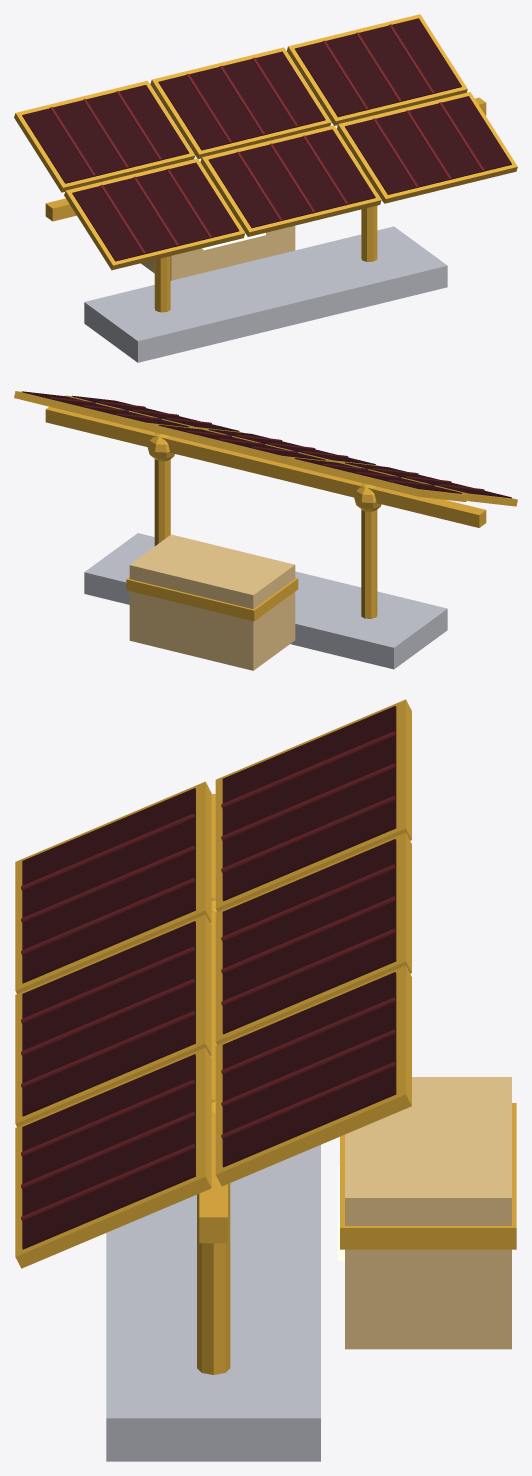
File: painel-solar-n3.glb
3 views of the same model, one above another, from view 1: azimuth 30°, elevation 25°; view 2: azimuth 150°, elevation 25°; view 3: azimuth 270°, elevation 25° (orthographic). The views are drawn at different scales.
Parts seen in each view (by area): view 1: painel-solar-n3; view 2: painel-solar-n3; view 3: painel-solar-n3.
Part boxes in pixels (left/top/right/bottom): painel-solar-n3: left=14, top=14, right=517, bottom=362; painel-solar-n3: left=14, top=391, right=517, bottom=670; painel-solar-n3: left=15, top=699, right=516, bottom=1461.
Size of the model in its own units: 6.72 by 3.06 by 3.36.
